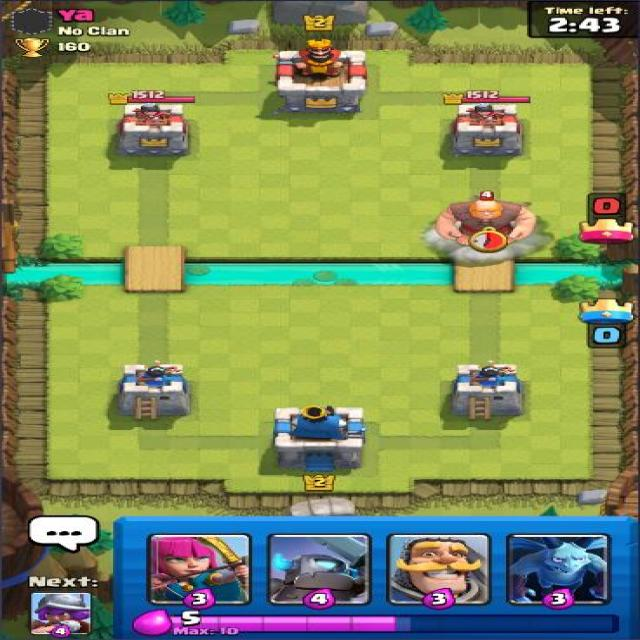Enemy-Giant: (431, 188, 539, 250)
